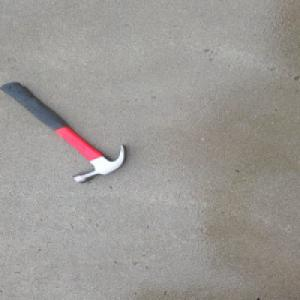Hammer: (0, 80, 128, 184)
